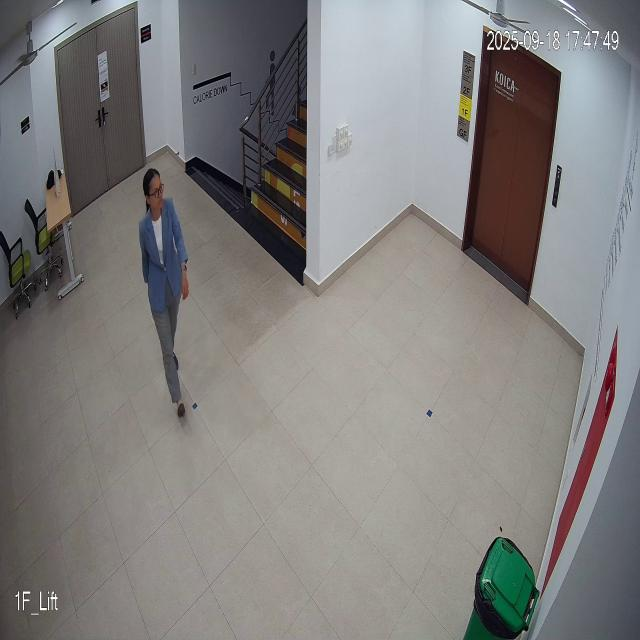face: (142, 165, 168, 219)
